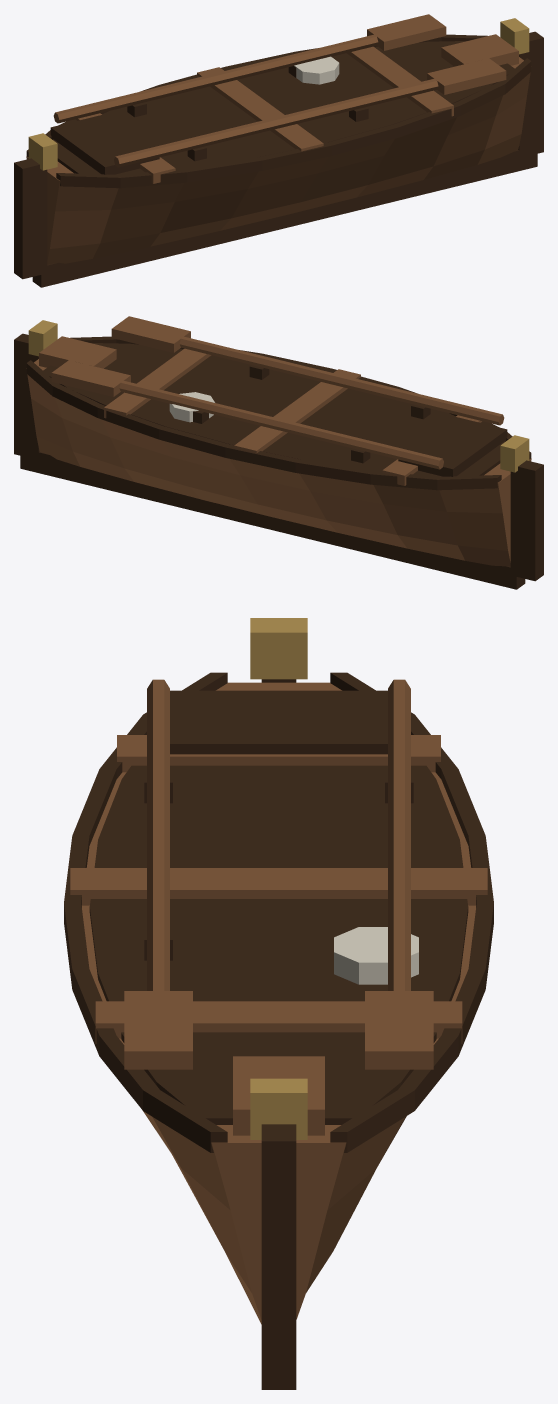
Rendered from SN_Safety_Lifeboat.glb.
3 renders of one model, top to bottom at view 1: azimuth 30°, elevation 25°; view 2: azimuth 150°, elevation 25°; view 3: azimuth 270°, elevation 25°, orthographic. The views are drawn at different scales.
Visible parts, largest first — view 1: SN_Safety_Lifeboat; view 2: SN_Safety_Lifeboat; view 3: SN_Safety_Lifeboat.
Part boxes in pixels (x1=…): SN_Safety_Lifeboat: x1=14, y1=14, x2=543, y2=287; SN_Safety_Lifeboat: x1=14, y1=316, x2=543, y2=589; SN_Safety_Lifeboat: x1=64, y1=618, x2=493, y2=1389.
Size of the model in its own units: 4.2 by 1.1 by 1.5.
